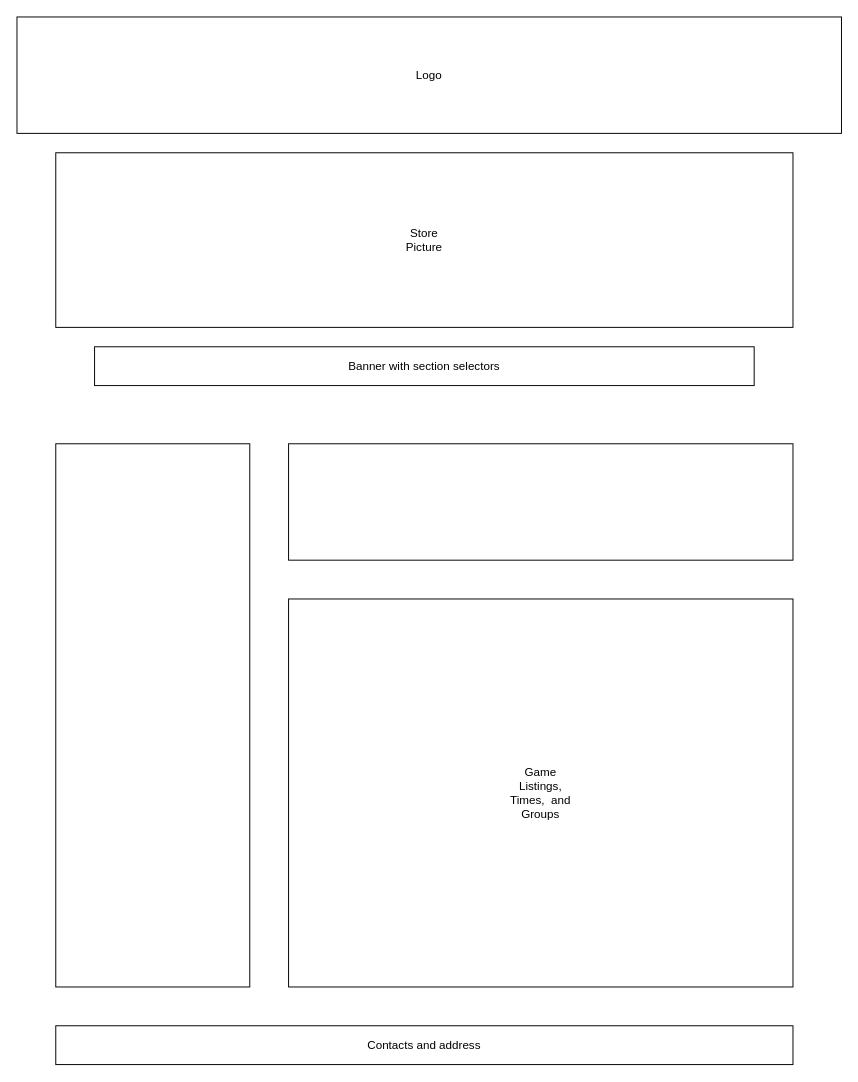
This 858x1082 diagram has some shape labels left out. Here are the shapes that lost their labels. From the top down, the centre of each, then its label:
At point (540, 501): "Game Info and Selection dropdown".
At point (152, 715): "Game List".
